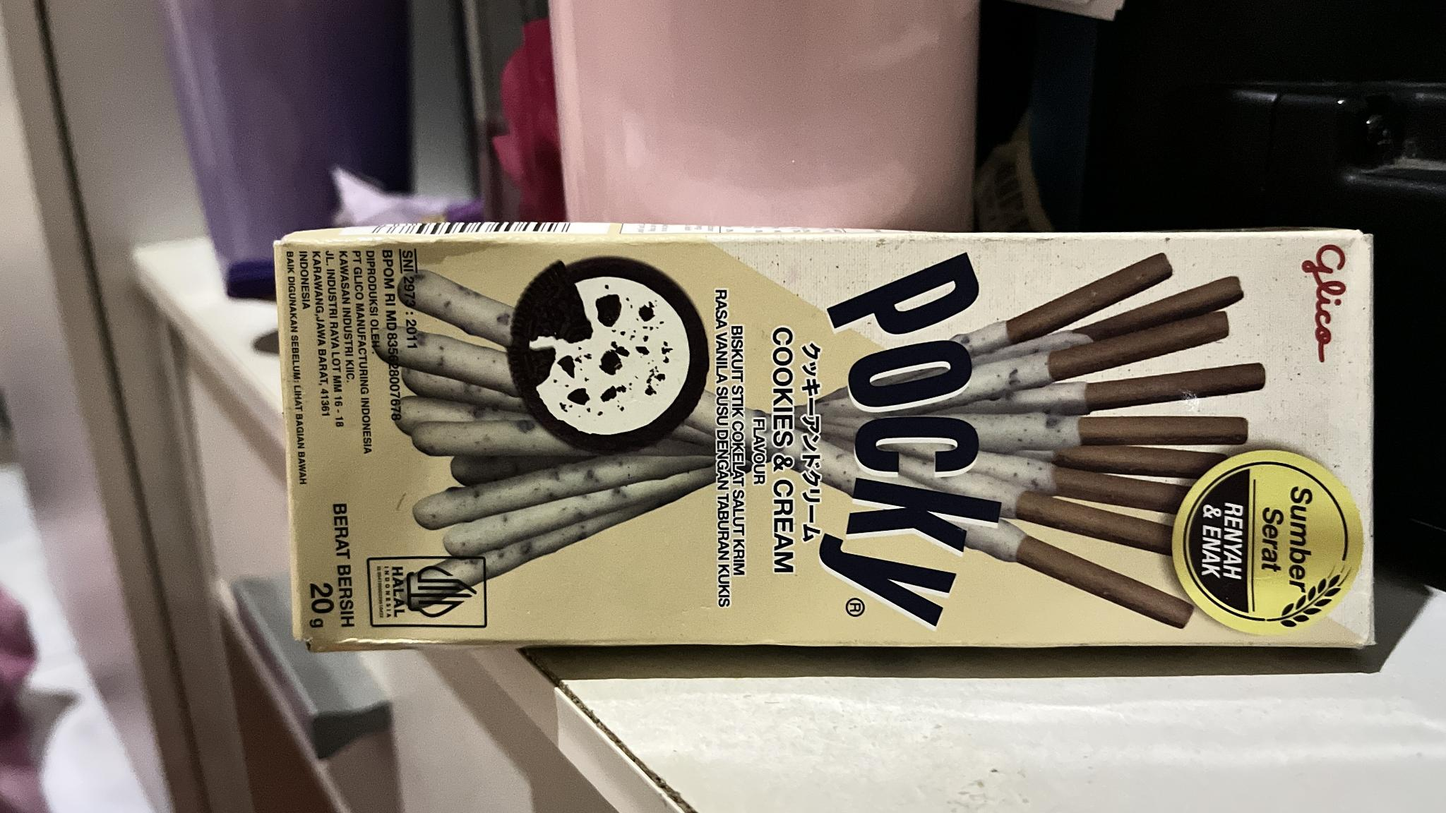Kertas: (273, 231, 1379, 643)
